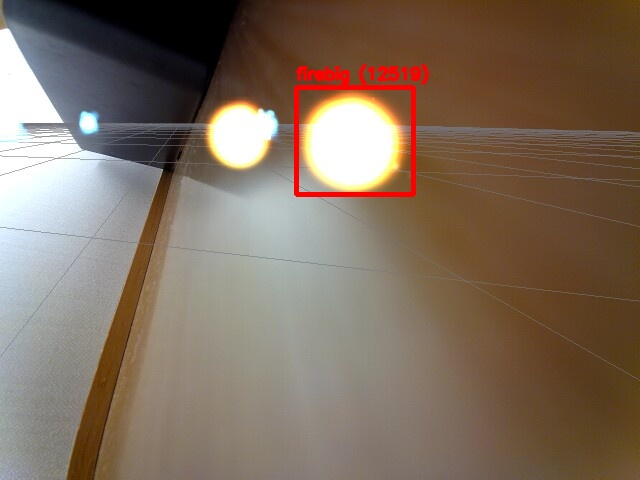firebig: (296, 87, 413, 194)
